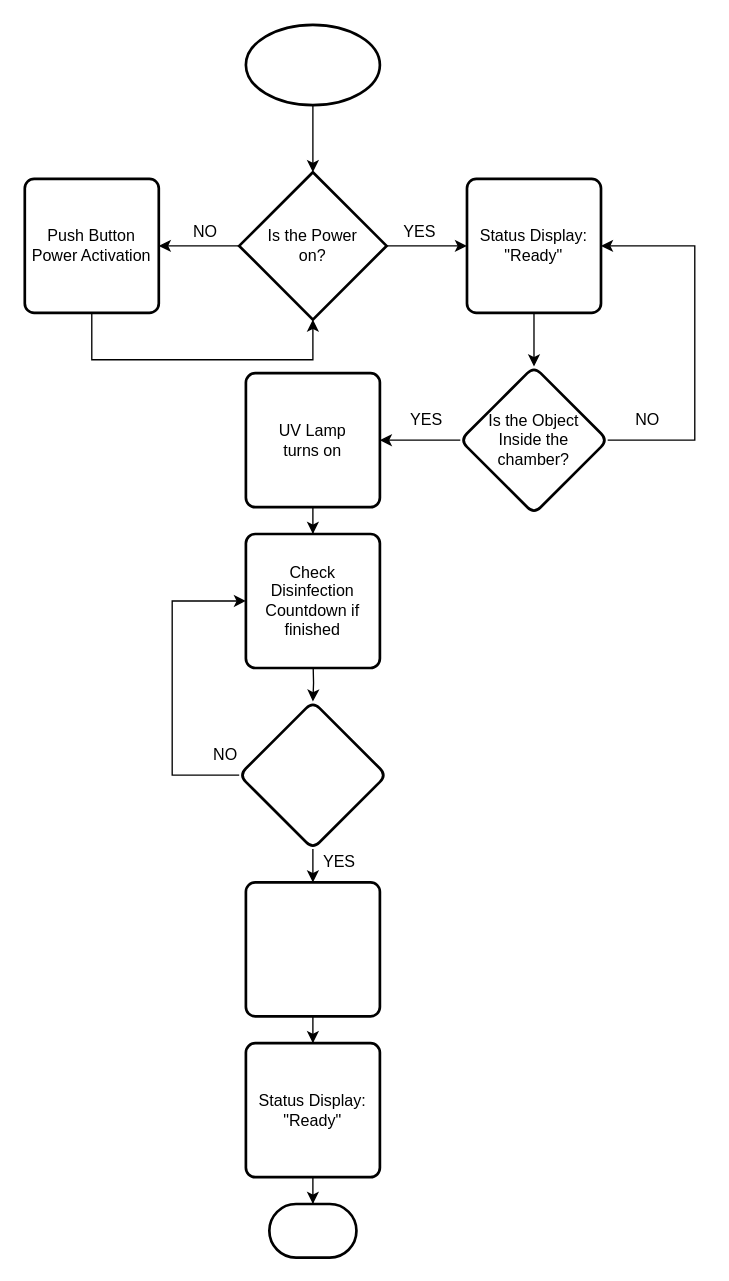
Some shapes in this 729 by 1281 pixel diagram are drawn without their labels. The shapes that lost their labels are listed below. From the top down, each one's centre as x and y in pixels, then its label:
At [312,64]: "Start".
At [312,774]: "Is the Countdown finished?".
At [312,948]: "UV Lamp turns off".
At [312,1230]: "End".
